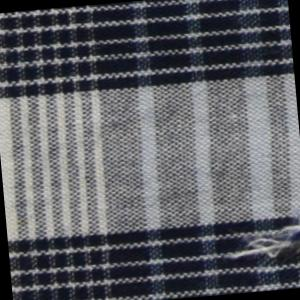Damage: (224, 208, 300, 264)
